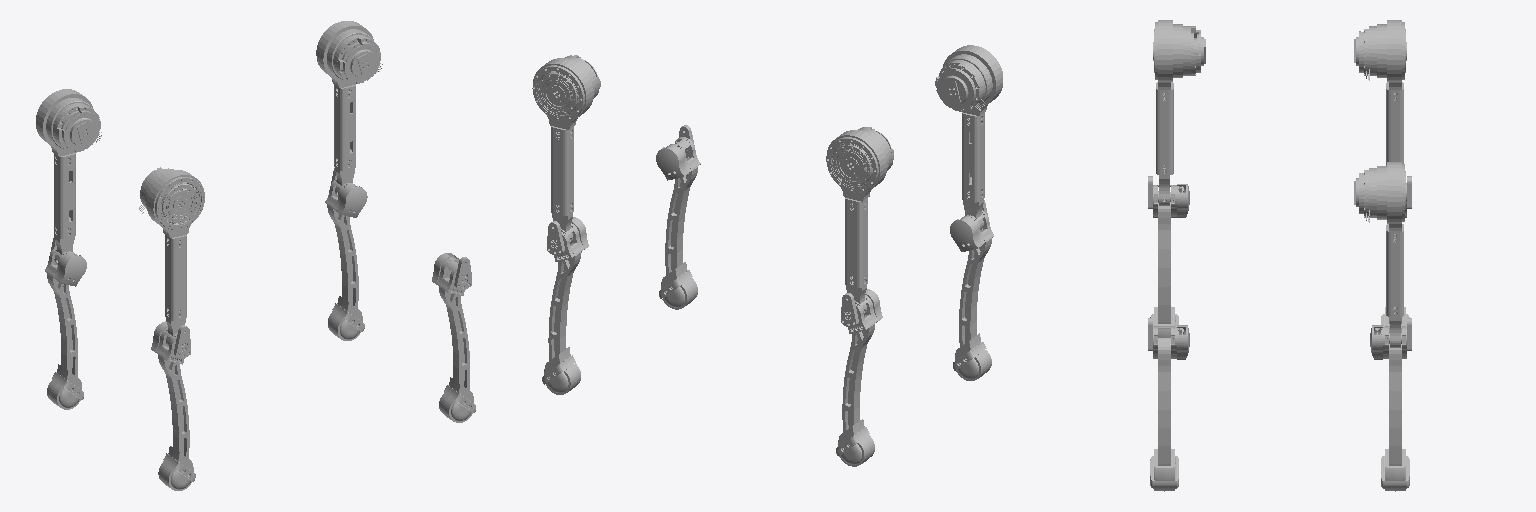
robot.urdf — PONGBOT_Q_V2.0:
<?xml version="1.0" encoding="utf-8"?>
<!-- This URDF was automatically created by SolidWorks to URDF Exporter! Originally created by [author] ([email redacted]) 
     Commit Version: 1.6.0-4-g7f85cfe  Build Version: 1.6.7995.38578
     For more information, please see http://wiki.ros.org/sw_urdf_exporter -->
<robot
  name="PONGBOT_Q_V2.0">
  <link
    name="BODY">
    <inertial>
      <origin
        xyz="-0.009766 -0.000477 0.00088"
        rpy="0 0 0" />
      <mass
        value="23.328" />
      <inertia
        ixx="0.19262"
        ixy="-0.002404"
        ixz="-0.000122"
        iyy="1.0817"
        iyz="-0.000142"
        izz="1.1999" />
    </inertial>
    <visual>
      <origin
        xyz="0 0 0"
        rpy="0 0 0" />
      <geometry>
        <mesh
          filename="package://PONGBOT_Q_V2.0/meshes/BODY.STL" />
      </geometry>
      <material
        name="">
        <color
          rgba="0.75294 0.75294 0.75294 1" />
      </material>
    </visual>
    <collision>
      <origin
        xyz="0 0 0"
        rpy="0 0 0" />
      <geometry>
        <mesh
          filename="package://PONGBOT_Q_V2.0/meshes/BODY.STL" />
      </geometry>
    </collision>
  </link>
  <link
    name="RL_HIP">
    <inertial>
      <origin
        xyz="-0.002897 -0.005227 0.000725"
        rpy="0 0 0" />
      <mass
        value="1.587072" />
      <inertia
        ixx="0.00134"
        ixy="-0.000014"
        ixz="0.000011"
        iyy="0.001938"
        iyz="0.000001"
        izz="0.001584" />
    </inertial>
    <visual>
      <origin
        xyz="0 0 0"
        rpy="0 0 0" />
      <geometry>
        <mesh
          filename="package://PONGBOT_Q_V2.0/meshes/RL_HIP.STL" />
      </geometry>
      <material
        name="">
        <color
          rgba="0.75294 0.75294 0.75294 1" />
      </material>
    </visual>
    <collision>
      <origin
        xyz="0 0 0"
        rpy="0 0 0" />
      <geometry>
        <mesh
          filename="package://PONGBOT_Q_V2.0/meshes/RL_HIP.STL" />
      </geometry>
    </collision>
  </link>
  <joint
    name="RL_HR_JOINT"
    type="continuous">
    <origin
      xyz="-0.31804 0.1138 0"
      rpy="0 0 0" />
    <parent
      link="BODY" />
    <child
      link="RL_HIP" />
    <axis
      xyz="1 0 0" />
  </joint>
  <link
    name="RL_THIGH">
    <inertial>
      <origin
        xyz="0.000189 -0.010257 -0.038433"
        rpy="0 0 0" />
      <mass
        value="3.32" />
      <inertia
        ixx="0.028079"
        ixy="-0.000023"
        ixz="0.000016"
        iyy="0.028442"
        iyz="-0.001256"
        izz="0.003743" />
    </inertial>
    <visual>
      <origin
        xyz="0 0 0"
        rpy="0 0 0" />
      <geometry>
        <mesh
          filename="package://PONGBOT_Q_V2.0/meshes/RL_THIGH.STL" />
      </geometry>
      <material
        name="">
        <color
          rgba="0.75294 0.75294 0.75294 1" />
      </material>
    </visual>
    <collision>
      <origin
        xyz="0 0 0"
        rpy="0 0 0" />
      <geometry>
        <mesh
          filename="package://PONGBOT_Q_V2.0/meshes/RL_THIGH.STL" />
      </geometry>
    </collision>
  </link>
  <joint
    name="RL_HP_JOINT"
    type="continuous">
    <origin
      xyz="0 0.105 0"
      rpy="0 0 0" />
    <parent
      link="RL_HIP" />
    <child
      link="RL_THIGH" />
    <axis
      xyz="0 1 0" />
  </joint>
  <link
    name="RL_CALF">
    <inertial>
      <origin
        xyz="0.000133 0.003337 -0.08188"
        rpy="0 0 0" />
      <mass
        value="0.573349" />
      <inertia
        ixx="0.005458"
        ixy="0.000006"
        ixz="-0.000328"
        iyy="0.005379"
        iyz="0.000191"
        izz="0.000266" />
    </inertial>
    <visual>
      <origin
        xyz="0 0 0"
        rpy="0 0 0" />
      <geometry>
        <mesh
          filename="package://PONGBOT_Q_V2.0/meshes/RL_CALF.STL" />
      </geometry>
      <material
        name="">
        <color
          rgba="0.75294 0.75294 0.75294 1" />
      </material>
    </visual>
    <collision>
      <origin
        xyz="0 0 0"
        rpy="0 0 0" />
      <geometry>
        <mesh
          filename="package://PONGBOT_Q_V2.0/meshes/RL_CALF.STL" />
      </geometry>
    </collision>
  </link>
  <joint
    name="RL_KN_JOINT"
    type="continuous">
    <origin
      xyz="0 0 -0.305"
      rpy="0 0 0" />
    <parent
      link="RL_THIGH" />
    <child
      link="RL_CALF" />
    <axis
      xyz="0 1 0" />
  </joint>
  <link
    name="RL_TIP">
    <inertial>
      <origin
        xyz="0.000494 0 0.002943"
        rpy="0 0 0" />
      <mass
        value="0.164603" />
      <inertia
        ixx="0.000088"
        ixy="0.000000"
        ixz="0.000000"
        iyy="0.000086"
        iyz="0.000000"
        izz="0.000073" />
    </inertial>
    <visual>
      <origin
        xyz="0 0 0"
        rpy="0 0 0" />
      <geometry>
        <mesh
          filename="package://PONGBOT_Q_V2.0/meshes/RL_TIP.STL" />
      </geometry>
      <material
        name="">
        <color
          rgba="0.75294 0.75294 0.75294 1" />
      </material>
    </visual>
    <collision>
      <origin
        xyz="0 0 0"
        rpy="0 0 0" />
      <geometry>
        <mesh
          filename="package://PONGBOT_Q_V2.0/meshes/RL_TIP.STL" />
      </geometry>
    </collision>
  </link>
  <joint
    name="RL_TIP_JOINT"
    type="fixed">
    <origin
      xyz="0 0 -0.28816"
      rpy="0 0 0" />
    <parent
      link="RL_CALF" />
    <child
      link="RL_TIP" />
    <axis
      xyz="0 0 0" />
  </joint>
  <link
    name="RR_HIP">
    <inertial>
      <origin
        xyz="-0.0028 0.005227 0.001089"
        rpy="0 0 0" />
      <mass
        value="1.5871" />
      <inertia
        ixx="0.001339"
        ixy="0.000009"
        ixz="-0.000001"
        iyy="0.001937"
        iyz="-0.000015"
        izz="0.001585" />
    </inertial>
    <visual>
      <origin
        xyz="0 0 0"
        rpy="0 0 0" />
      <geometry>
        <mesh
          filename="package://PONGBOT_Q_V2.0/meshes/RR_HIP.STL" />
      </geometry>
      <material
        name="">
        <color
          rgba="0.75294 0.75294 0.75294 1" />
      </material>
    </visual>
    <collision>
      <origin
        xyz="0 0 0"
        rpy="0 0 0" />
      <geometry>
        <mesh
          filename="package://PONGBOT_Q_V2.0/meshes/RR_HIP.STL" />
      </geometry>
    </collision>
  </link>
  <joint
    name="RR_HR_JOINT"
    type="continuous">
    <origin
      xyz="-0.31804 -0.1138 0"
      rpy="0 0 0" />
    <parent
      link="BODY" />
    <child
      link="RR_HIP" />
    <axis
      xyz="1 0 0" />
  </joint>
  <link
    name="RR_THIGH">
    <inertial>
      <origin
        xyz="-0.000189 0.010257 -0.038433"
        rpy="0 0 0" />
      <mass
        value="3.32" />
      <inertia
        ixx="0.028079"
        ixy="-0.000023"
        ixz="-0.000016"
        iyy="0.028442"
        iyz="0.001256"
        izz="0.003743" />
    </inertial>
    <visual>
      <origin
        xyz="0 0 0"
        rpy="0 0 0" />
      <geometry>
        <mesh
          filename="package://PONGBOT_Q_V2.0/meshes/RR_THIGH.STL" />
      </geometry>
      <material
        name="">
        <color
          rgba="0.75294 0.75294 0.75294 1" />
      </material>
    </visual>
    <collision>
      <origin
        xyz="0 0 0"
        rpy="0 0 0" />
      <geometry>
        <mesh
          filename="package://PONGBOT_Q_V2.0/meshes/RR_THIGH.STL" />
      </geometry>
    </collision>
  </link>
  <joint
    name="RR_HP_JOINT"
    type="continuous">
    <origin
      xyz="0 -0.105 0"
      rpy="0 0 0" />
    <parent
      link="RR_HIP" />
    <child
      link="RR_THIGH" />
    <axis
      xyz="0 1 0" />
  </joint>
  <link
    name="RR_CALF">
    <inertial>
      <origin
        xyz="0.000137 -0.003337 -0.081883"
        rpy="0 0 0" />
      <mass
        value="0.57335" />
      <inertia
        ixx="0.005457"
        ixy="-0.000006"
        ixz="-0.000328"
        iyy="0.005379"
        iyz="-0.000191"
        izz="0.000266" />
    </inertial>
    <visual>
      <origin
        xyz="0 0 0"
        rpy="0 0 0" />
      <geometry>
        <mesh
          filename="package://PONGBOT_Q_V2.0/meshes/RR_CALF.STL" />
      </geometry>
      <material
        name="">
        <color
          rgba="0.75294 0.75294 0.75294 1" />
      </material>
    </visual>
    <collision>
      <origin
        xyz="0 0 0"
        rpy="0 0 0" />
      <geometry>
        <mesh
          filename="package://PONGBOT_Q_V2.0/meshes/RR_CALF.STL" />
      </geometry>
    </collision>
  </link>
  <joint
    name="RR_KN_JOINT"
    type="continuous">
    <origin
      xyz="0 0 -0.305"
      rpy="0 0 0" />
    <parent
      link="RR_THIGH" />
    <child
      link="RR_CALF" />
    <axis
      xyz="0 1 0" />
  </joint>
  <link
    name="RR_TIP">
    <inertial>
      <origin
        xyz="0.000494 0 0.002943"
        rpy="0 0 0" />
      <mass
        value="0.1646" />
      <inertia
        ixx="0.000088"
        ixy="0.000000"
        ixz="0.000000"
        iyy="0.000086"
        iyz="0.000000"
        izz="0.000073" />
    </inertial>
    <visual>
      <origin
        xyz="0 0 0"
        rpy="0 0 0" />
      <geometry>
        <mesh
          filename="package://PONGBOT_Q_V2.0/meshes/RR_TIP.STL" />
      </geometry>
      <material
        name="">
        <color
          rgba="0.75294 0.75294 0.75294 1" />
      </material>
    </visual>
    <collision>
      <origin
        xyz="0 0 0"
        rpy="0 0 0" />
      <geometry>
        <mesh
          filename="package://PONGBOT_Q_V2.0/meshes/RR_TIP.STL" />
      </geometry>
    </collision>
  </link>
  <joint
    name="RR_TIP_JOINT"
    type="fixed">
    <origin
      xyz="0 0 -0.28816"
      rpy="0 0 0" />
    <parent
      link="RR_CALF" />
    <child
      link="RR_TIP" />
    <axis
      xyz="0 0 0" />
  </joint>
  <link
    name="FL_HIP">
    <inertial>
      <origin
        xyz="0.002803 -0.005227 0.001089"
        rpy="0 0 0" />
      <mass
        value="1.5871" />
      <inertia
        ixx="0.001339"
        ixy="0.000009"
        ixz="0.00001"
        iyy="0.001938"
        iyz="0.000015"
        izz="0.001585" />
    </inertial>
    <visual>
      <origin
        xyz="0 0 0"
        rpy="0 0 0" />
      <geometry>
        <mesh
          filename="package://PONGBOT_Q_V2.0/meshes/FL_HIP.STL" />
      </geometry>
      <material
        name="">
        <color
          rgba="0.75294 0.75294 0.75294 1" />
      </material>
    </visual>
    <collision>
      <origin
        xyz="0 0 0"
        rpy="0 0 0" />
      <geometry>
        <mesh
          filename="package://PONGBOT_Q_V2.0/meshes/FL_HIP.STL" />
      </geometry>
    </collision>
  </link>
  <joint
    name="FL_HR_JOINT"
    type="continuous">
    <origin
      xyz="0.31804 0.1138 0"
      rpy="0 0 0" />
    <parent
      link="BODY" />
    <child
      link="FL_HIP" />
    <axis
      xyz="1 0 0" />
  </joint>
  <link
    name="FL_THIGH">
    <inertial>
      <origin
        xyz="0.000189 -0.010257 -0.038433"
        rpy="0 0 0" />
      <mass
        value="3.32" />
      <inertia
        ixx="0.028079"
        ixy="-0.000023"
        ixz="0.000016"
        iyy="0.028442"
        iyz="-0.001256"
        izz="0.003743" />
    </inertial>
    <visual>
      <origin
        xyz="0 0 0"
        rpy="0 0 0" />
      <geometry>
        <mesh
          filename="package://PONGBOT_Q_V2.0/meshes/FL_THIGH.STL" />
      </geometry>
      <material
        name="">
        <color
          rgba="0.75294 0.75294 0.75294 1" />
      </material>
    </visual>
    <collision>
      <origin
        xyz="0 0 0"
        rpy="0 0 0" />
      <geometry>
        <mesh
          filename="package://PONGBOT_Q_V2.0/meshes/FL_THIGH.STL" />
      </geometry>
    </collision>
  </link>
  <joint
    name="FL_HP_JOINT"
    type="continuous">
    <origin
      xyz="0 0.105 0"
      rpy="0 0 0" />
    <parent
      link="FL_HIP" />
    <child
      link="FL_THIGH" />
    <axis
      xyz="0 1 0" />
  </joint>
  <link
    name="FL_CALF">
    <inertial>
      <origin
        xyz="0.000133 0.003337 -0.08188"
        rpy="0 0 0" />
      <mass
        value="0.57335" />
      <inertia
        ixx="0.005458"
        ixy="0.000006"
        ixz="-0.000328"
        iyy="0.005379"
        iyz="0.000191"
        izz="0.000266" />
    </inertial>
    <visual>
      <origin
        xyz="0 0 0"
        rpy="0 0 0" />
      <geometry>
        <mesh
          filename="package://PONGBOT_Q_V2.0/meshes/FL_CALF.STL" />
      </geometry>
      <material
        name="">
        <color
          rgba="0.75294 0.75294 0.75294 1" />
      </material>
    </visual>
    <collision>
      <origin
        xyz="0 0 0"
        rpy="0 0 0" />
      <geometry>
        <mesh
          filename="package://PONGBOT_Q_V2.0/meshes/FL_CALF.STL" />
      </geometry>
    </collision>
  </link>
  <joint
    name="FL_KN_JOINT"
    type="continuous">
    <origin
      xyz="0 0 -0.305"
      rpy="0 0 0" />
    <parent
      link="FL_THIGH" />
    <child
      link="FL_CALF" />
    <axis
      xyz="0 1 0" />
  </joint>
  <link
    name="FL_TIP">
    <inertial>
      <origin
        xyz="0.000494 0 0.002943"
        rpy="0 0 0" />
      <mass
        value="0.1646" />
      <inertia
        ixx="0.000088"
        ixy="0.000000"
        ixz="0.000000"
        iyy="0.000086"
        iyz="0.000000"
        izz="0.000073" />
    </inertial>
    <visual>
      <origin
        xyz="0 0 0"
        rpy="0 0 0" />
      <geometry>
        <mesh
          filename="package://PONGBOT_Q_V2.0/meshes/FL_TIP.STL" />
      </geometry>
      <material
        name="">
        <color
          rgba="0.75294 0.75294 0.75294 1" />
      </material>
    </visual>
    <collision>
      <origin
        xyz="0 0 0"
        rpy="0 0 0" />
      <geometry>
        <mesh
          filename="package://PONGBOT_Q_V2.0/meshes/FL_TIP.STL" />
      </geometry>
    </collision>
  </link>
  <joint
    name="FL_TIP_JOINT"
    type="fixed">
    <origin
      xyz="0 0 -0.28816"
      rpy="0 0 0" />
    <parent
      link="FL_CALF" />
    <child
      link="FL_TIP" />
    <axis
      xyz="0 0 0" />
  </joint>
  <link
    name="FR_HIP">
    <inertial>
      <origin
        xyz="0.002897 0.005227 -0.000725"
        rpy="0 0 0" />
      <mass
        value="1.5871" />
      <inertia
        ixx="0.00134"
        ixy="-0.000014"
        ixz="-0.000011"
        iyy="0.001938"
        iyz="-0.000001"
        izz="0.001584" />
    </inertial>
    <visual>
      <origin
        xyz="0 0 0"
        rpy="0 0 0" />
      <geometry>
        <mesh
          filename="package://PONGBOT_Q_V2.0/meshes/FR_HIP.STL" />
      </geometry>
      <material
        name="">
        <color
          rgba="0.75294 0.75294 0.75294 1" />
      </material>
    </visual>
    <collision>
      <origin
        xyz="0 0 0"
        rpy="0 0 0" />
      <geometry>
        <mesh
          filename="package://PONGBOT_Q_V2.0/meshes/FR_HIP.STL" />
      </geometry>
    </collision>
  </link>
  <joint
    name="FR_HR_JOINT"
    type="continuous">
    <origin
      xyz="0.31804 -0.1138 0"
      rpy="0 0 0" />
    <parent
      link="BODY" />
    <child
      link="FR_HIP" />
    <axis
      xyz="1 0 0" />
  </joint>
  <link
    name="FR_THIGH">
    <inertial>
      <origin
        xyz="-0.000189 0.010257 -0.038433"
        rpy="0 0 0" />
      <mass
        value="3.32" />
      <inertia
        ixx="0.028079"
        ixy="-0.000023"
        ixz="-0.000016"
        iyy="0.028442"
        iyz="0.001256"
        izz="0.003743" />
    </inertial>
    <visual>
      <origin
        xyz="0 0 0"
        rpy="0 0 0" />
      <geometry>
        <mesh
          filename="package://PONGBOT_Q_V2.0/meshes/FR_THIGH.STL" />
      </geometry>
      <material
        name="">
        <color
          rgba="0.75294 0.75294 0.75294 1" />
      </material>
    </visual>
    <collision>
      <origin
        xyz="0 0 0"
        rpy="0 0 0" />
      <geometry>
        <mesh
          filename="package://PONGBOT_Q_V2.0/meshes/FR_THIGH.STL" />
      </geometry>
    </collision>
  </link>
  <joint
    name="FR_HP_JOINT"
    type="continuous">
    <origin
      xyz="0 -0.105 0"
      rpy="0 0 0" />
    <parent
      link="FR_HIP" />
    <child
      link="FR_THIGH" />
    <axis
      xyz="0 1 0" />
  </joint>
  <link
    name="FR_CALF">
    <inertial>
      <origin
        xyz="0.000137 -0.003337 -0.081883"
        rpy="0 0 0" />
      <mass
        value="0.57335" />
      <inertia
        ixx="0.005457"
        ixy="-0.000006"
        ixz="-0.000328"
        iyy="0.005379"
        iyz="-0.000191"
        izz="0.000266" />
    </inertial>
    <visual>
      <origin
        xyz="0 0 0"
        rpy="0 0 0" />
      <geometry>
        <mesh
          filename="package://PONGBOT_Q_V2.0/meshes/FR_CALF.STL" />
      </geometry>
      <material
        name="">
        <color
          rgba="0.75294 0.75294 0.75294 1" />
      </material>
    </visual>
    <collision>
      <origin
        xyz="0 0 0"
        rpy="0 0 0" />
      <geometry>
        <mesh
          filename="package://PONGBOT_Q_V2.0/meshes/FR_CALF.STL" />
      </geometry>
    </collision>
  </link>
  <joint
    name="FR_KN_JOINT"
    type="continuous">
    <origin
      xyz="0 0 -0.305"
      rpy="0 0 0" />
    <parent
      link="FR_THIGH" />
    <child
      link="FR_CALF" />
    <axis
      xyz="0 1 0" />
  </joint>
  <link
    name="FR_TIP">
    <inertial>
      <origin
        xyz="0.000494 0 0.002943"
        rpy="0 0 0" />
      <mass
        value="0.1646" />
      <inertia
        ixx="0.000088"
        ixy="0.000000"
        ixz="0.000000"
        iyy="0.000086"
        iyz="0.000000"
        izz="0.000073" />
    </inertial>
    <visual>
      <origin
        xyz="0 0 0"
        rpy="0 0 0" />
      <geometry>
        <mesh
          filename="package://PONGBOT_Q_V2.0/meshes/FR_TIP.STL" />
      </geometry>
      <material
        name="">
        <color
          rgba="0.75294 0.75294 0.75294 1" />
      </material>
    </visual>
    <collision>
      <origin
        xyz="0 0 0"
        rpy="0 0 0" />
      <geometry>
        <mesh
          filename="package://PONGBOT_Q_V2.0/meshes/FR_TIP.STL" />
      </geometry>
    </collision>
  </link>
  <joint
    name="FR_TIP_JOINT"
    type="fixed">
    <origin
      xyz="0 0 -0.28816"
      rpy="0 0 0" />
    <parent
      link="FR_CALF" />
    <child
      link="FR_TIP" />
    <axis
      xyz="0 0 0" />
  </joint>
</robot>

--- Facts derived from the render (not from the file) ---
The picture shows the robot from 3 angles, left to right: view 1: azimuth 30°, elevation 25°; view 2: azimuth 150°, elevation 25°; view 3: azimuth 270°, elevation 25°; orthographic projection.
Model PONGBOT_Q_V2.0 with 17 links and 16 joints (12 continuous, 4 fixed), rooted at BODY, posed all joints at 0.
Links seen in each view (by area): view 1: RR_THIGH, RL_THIGH, FL_THIGH, FR_CALF, RR_CALF, RL_CALF, FL_CALF, RL_TIP, FR_TIP, RR_TIP, FL_TIP; view 2: RR_THIGH, RL_THIGH, FL_THIGH, FR_CALF, FL_CALF, RL_CALF, RR_CALF, RL_TIP, FL_TIP, FR_TIP, RR_TIP; view 3: RR_THIGH, FL_THIGH, RL_THIGH, FR_CALF, RR_CALF, FL_CALF, FL_TIP, FR_TIP.
Link boxes in pixels (x1=…): RR_THIGH: x1=139, y1=167, x2=204, y2=346; RL_THIGH: x1=36, y1=89, x2=101, y2=264; FL_THIGH: x1=316, y1=21, x2=382, y2=196; FR_CALF: x1=432, y1=253, x2=471, y2=390; RR_CALF: x1=151, y1=321, x2=190, y2=458; RL_CALF: x1=45, y1=238, x2=86, y2=376; FL_CALF: x1=325, y1=168, x2=367, y2=308; RL_TIP: x1=47, y1=364, x2=83, y2=409; FR_TIP: x1=439, y1=377, x2=475, y2=422; RR_TIP: x1=158, y1=446, x2=195, y2=490; FL_TIP: x1=328, y1=296, x2=364, y2=340; RR_THIGH: x1=935, y1=45, x2=1002, y2=229; RL_THIGH: x1=826, y1=127, x2=893, y2=314; FL_THIGH: x1=532, y1=55, x2=600, y2=243; FR_CALF: x1=656, y1=125, x2=700, y2=274; FL_CALF: x1=547, y1=217, x2=588, y2=360; RL_CALF: x1=841, y1=289, x2=882, y2=432; RR_CALF: x1=950, y1=200, x2=993, y2=346; RL_TIP: x1=836, y1=419, x2=874, y2=466; FL_TIP: x1=542, y1=347, x2=580, y2=394; FR_TIP: x1=659, y1=262, x2=697, y2=309; RR_TIP: x1=953, y1=333, x2=991, y2=380; RR_THIGH: x1=1153, y1=20, x2=1205, y2=205; FL_THIGH: x1=1354, y1=162, x2=1406, y2=347; RL_THIGH: x1=1354, y1=20, x2=1406, y2=165; FR_CALF: x1=1148, y1=318, x2=1189, y2=465; RR_CALF: x1=1148, y1=176, x2=1189, y2=323; FL_CALF: x1=1370, y1=318, x2=1411, y2=465; FL_TIP: x1=1381, y1=449, x2=1409, y2=491; FR_TIP: x1=1150, y1=449, x2=1178, y2=491.
Bounding box of the posed robot: 0.753 × 0.5016 × 0.681 m (x, y, z).
11 mesh visuals loaded from 17 distinct referenced files (11 binary STL); not drawn: 6 (reference not matched to a file when rendering).